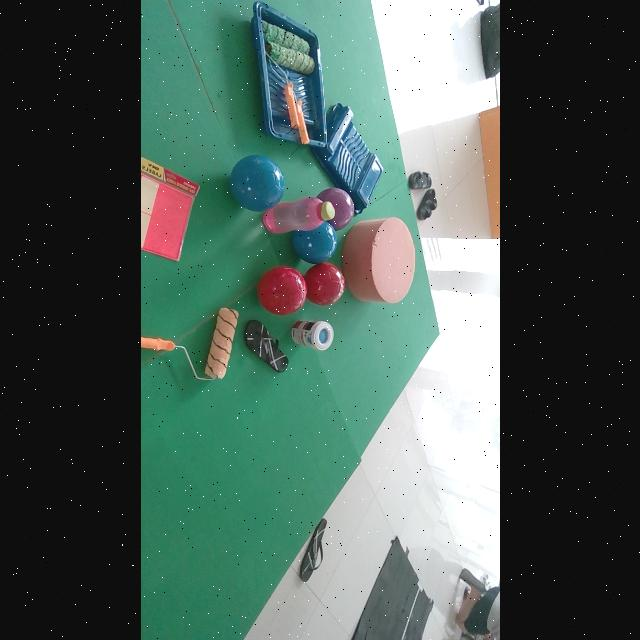B: (229, 155, 284, 211), (293, 222, 337, 264)
P: (317, 188, 354, 231)
R: (257, 266, 305, 316), (304, 263, 346, 306)
